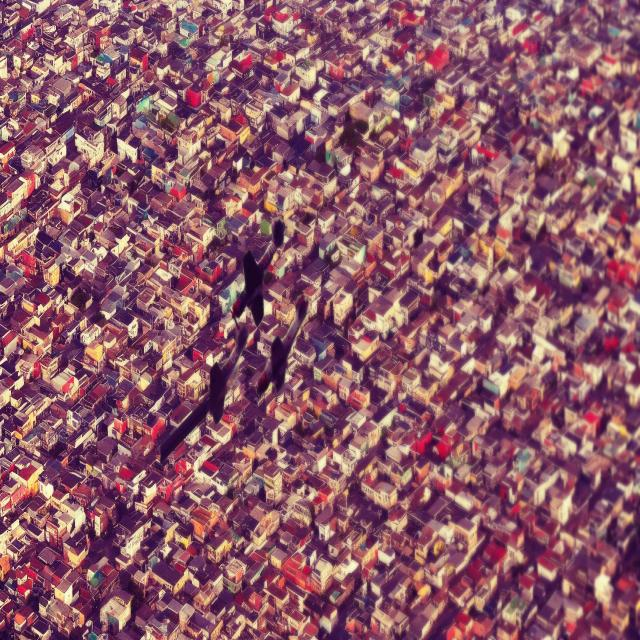airplane: (160, 324, 248, 458), (230, 219, 286, 326), (254, 293, 310, 395)
